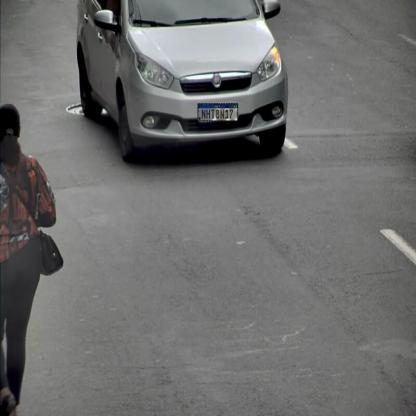PlacaM: (198, 103, 238, 121)
